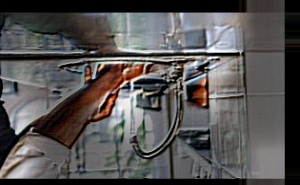washing hand: (46, 62, 195, 170)
